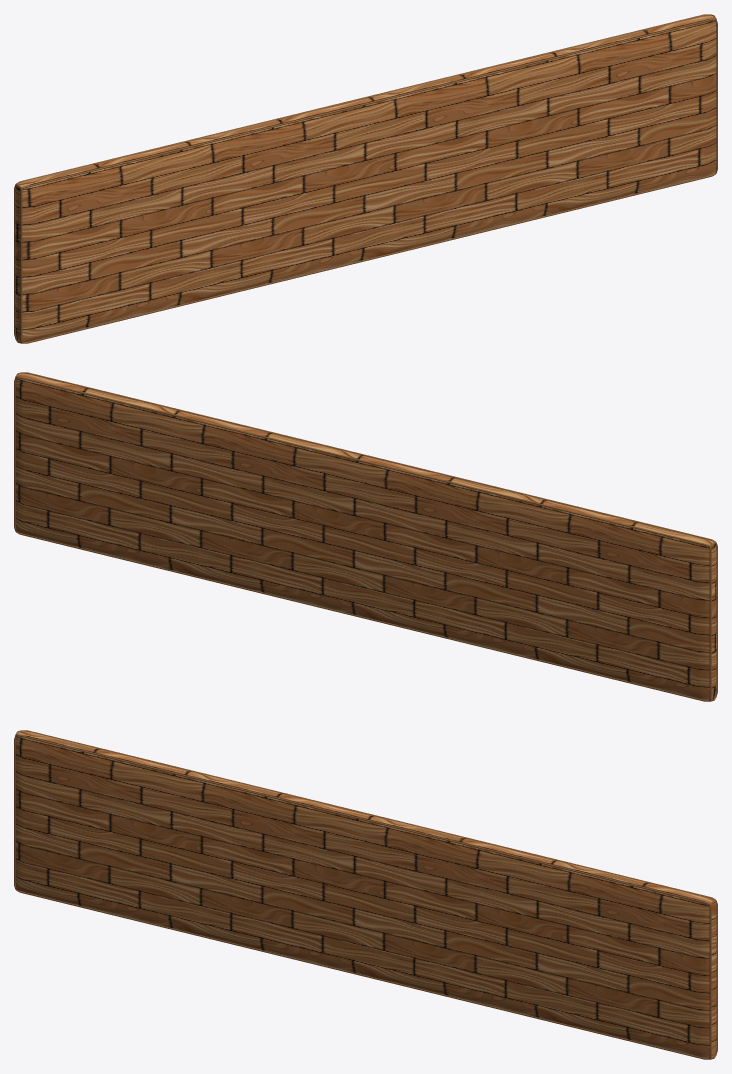
File: SM_FoamWall_1x4.fbx
3 renders of one model, top to bottom at view 1: azimuth 30°, elevation 25°; view 2: azimuth 150°, elevation 25°; view 3: azimuth 330°, elevation 25°, orthographic.
Parts seen in each view (by area): view 1: SM_SoftFoam_Wall_10_1x4; view 2: SM_SoftFoam_Wall_10_1x4; view 3: SM_SoftFoam_Wall_10_1x4.
Part boxes in pixels (left/top/right/bottom): SM_SoftFoam_Wall_10_1x4: left=14, top=14, right=717, bottom=343; SM_SoftFoam_Wall_10_1x4: left=14, top=372, right=717, bottom=701; SM_SoftFoam_Wall_10_1x4: left=14, top=730, right=717, bottom=1059.
Bounding box in the file's own units: 383 × 83.6 × 10.
